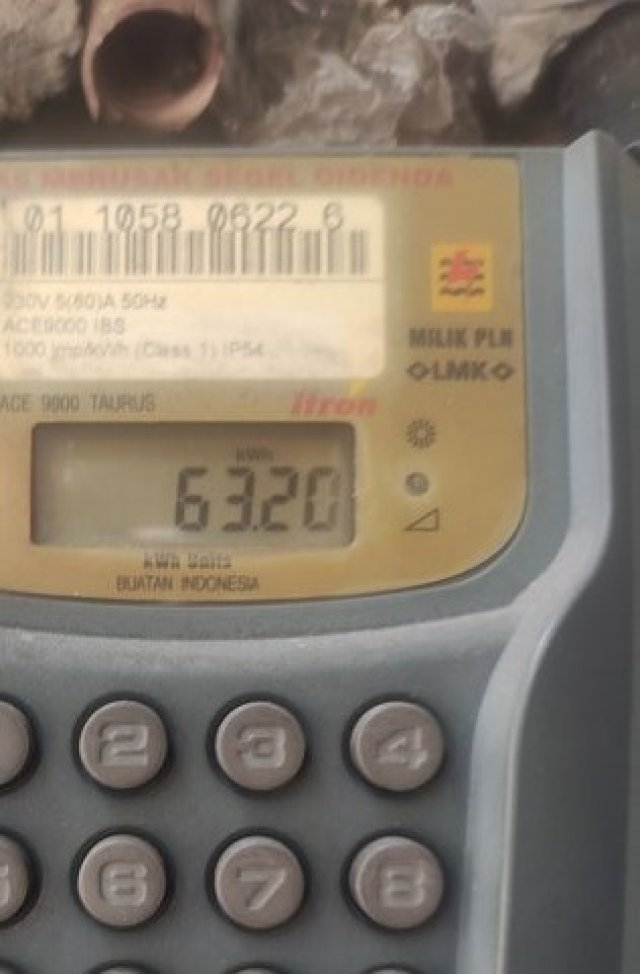box: (30, 421, 356, 547)
